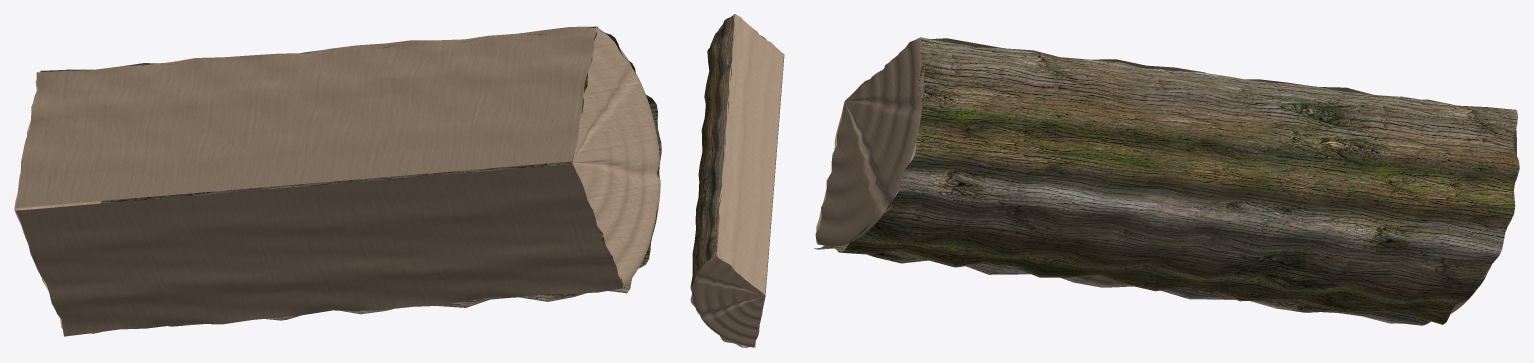
Rendered from fresno_seco_v002_candidate.glb.
3 renders of one model, left to right at view 1: azimuth 30°, elevation 25°; view 2: azimuth 150°, elevation 25°; view 3: azimuth 270°, elevation 25°, orthographic. The views are drawn at different scales.
Parts seen in each view (by area): view 1: Split seasoned fresno - continuous bark / fibre / endgrain; view 2: Split seasoned fresno - continuous bark / fibre / endgrain; view 3: Split seasoned fresno - continuous bark / fibre / endgrain.
Boxes of the visible parts, <box> form: Split seasoned fresno - continuous bark / fibre / endgrain: <box>14,26,661,336</box>; Split seasoned fresno - continuous bark / fibre / endgrain: <box>690,14,784,348</box>; Split seasoned fresno - continuous bark / fibre / endgrain: <box>814,37,1519,325</box>.
Bounding box in the file's own units: 0.3053 × 0.3229 × 0.492.
Materials: 2 (2 with a texture image).
